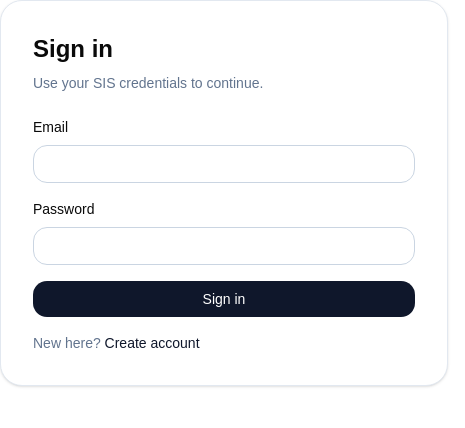
it: LoginPage — validation › shows password length error when password is too short
The width and height of the screenshot is (465, 428).
In the field labelled "Email": (224, 164) 33,145 -> 415,183, type "alice@uni.edu"
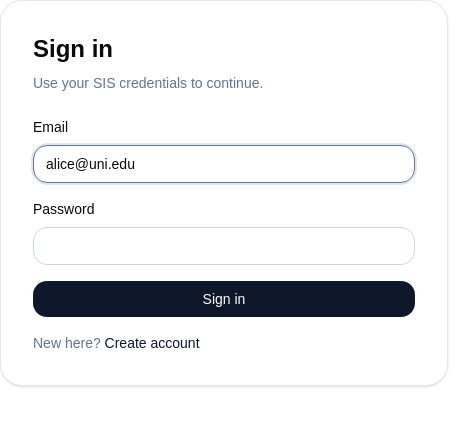
In the password field labelled "Password": (224, 246) 33,227 -> 415,265, type "abc"
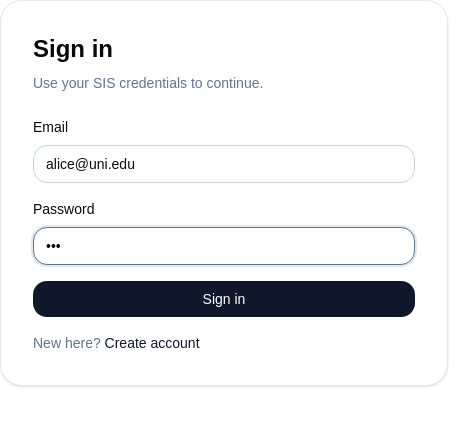
Click the button "Sign in": (224, 299) 33,281 -> 415,317
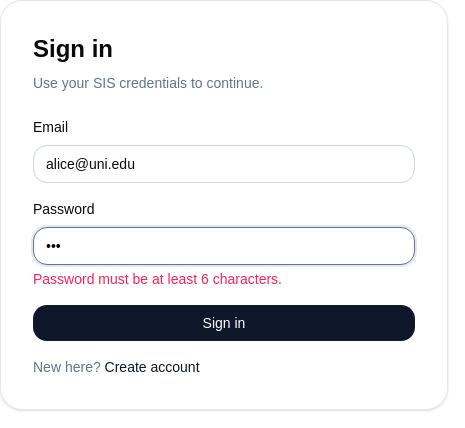
Expected: the text "Password must be at least 6 characters." is shown, 33,271 -> 282,287
